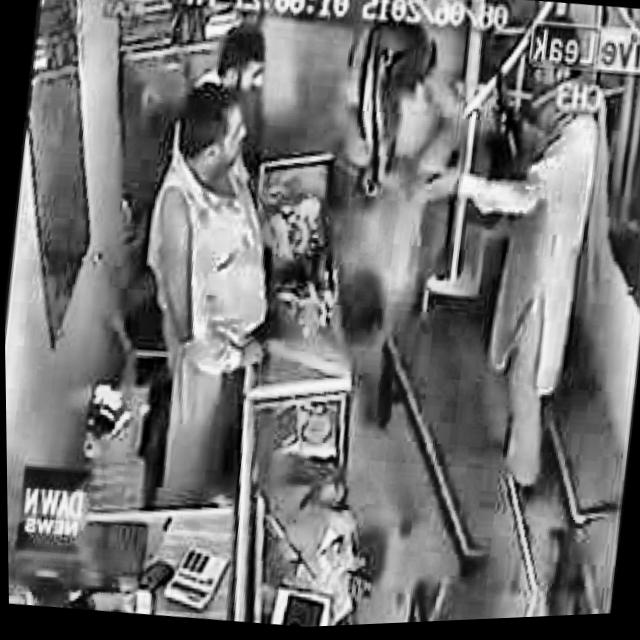robbery: (375, 7, 621, 511)
